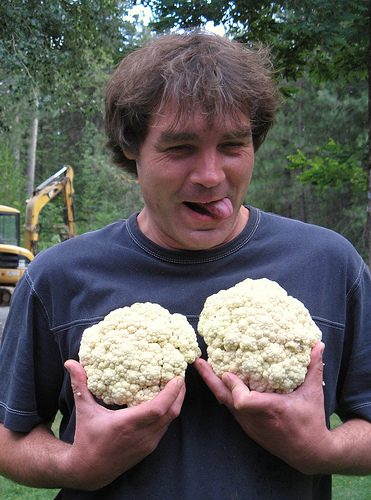cauliflower: (195, 276, 320, 391), (78, 299, 191, 407)
